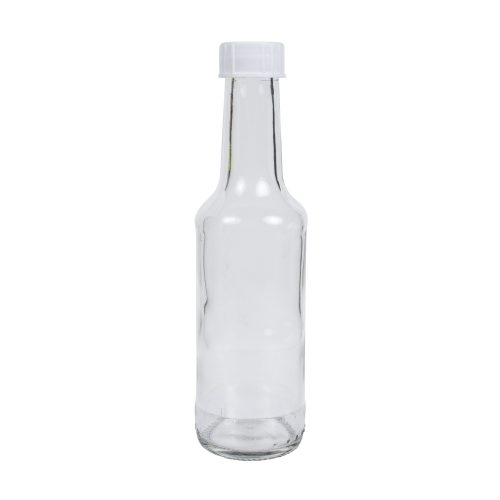glass_bottle: (190, 37, 310, 470)
